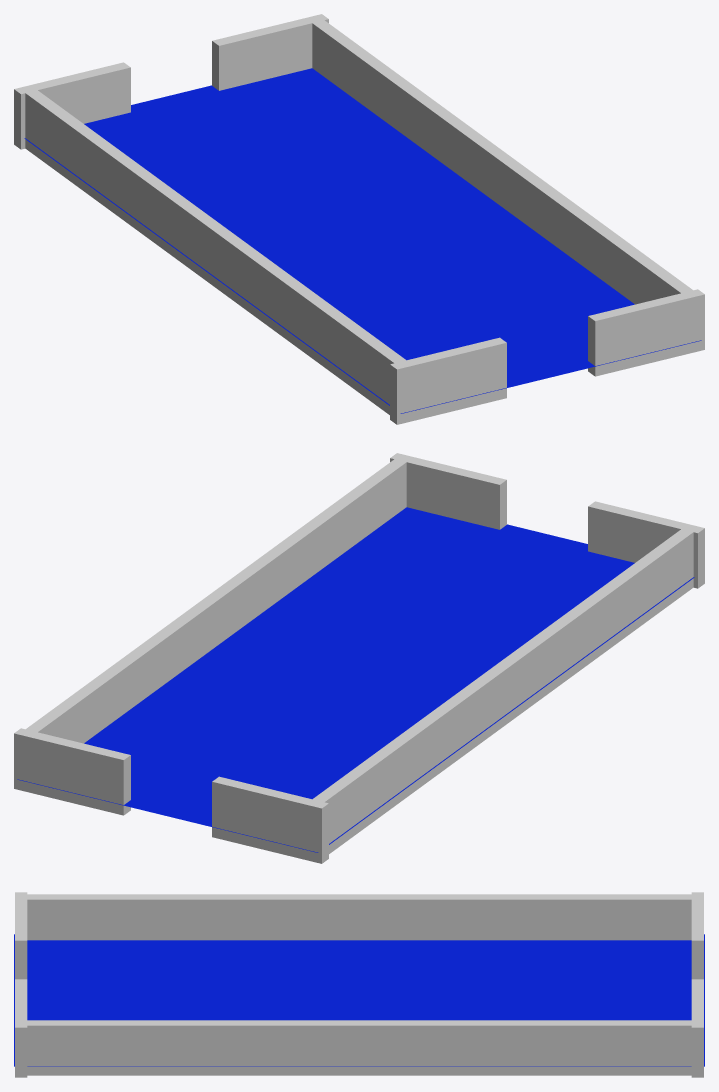
File: MDL_E_LVL_Temple_01.fbx
3 views of the same model, one above another, from view 1: azimuth 30°, elevation 25°; view 2: azimuth 150°, elevation 25°; view 3: azimuth 270°, elevation 25° (orthographic). The views are drawn at different scales.
Parts seen in each view (by area): view 1: Plane.015; view 2: Plane.015; view 3: Plane.015.
Part boxes in pixels (box(x1,y1,x2,y2)): Plane.015: box(14, 14, 704, 424); Plane.015: box(14, 453, 704, 863); Plane.015: box(14, 892, 704, 1077).
Size of the model in its own units: 1581 by 272 by 3414.
